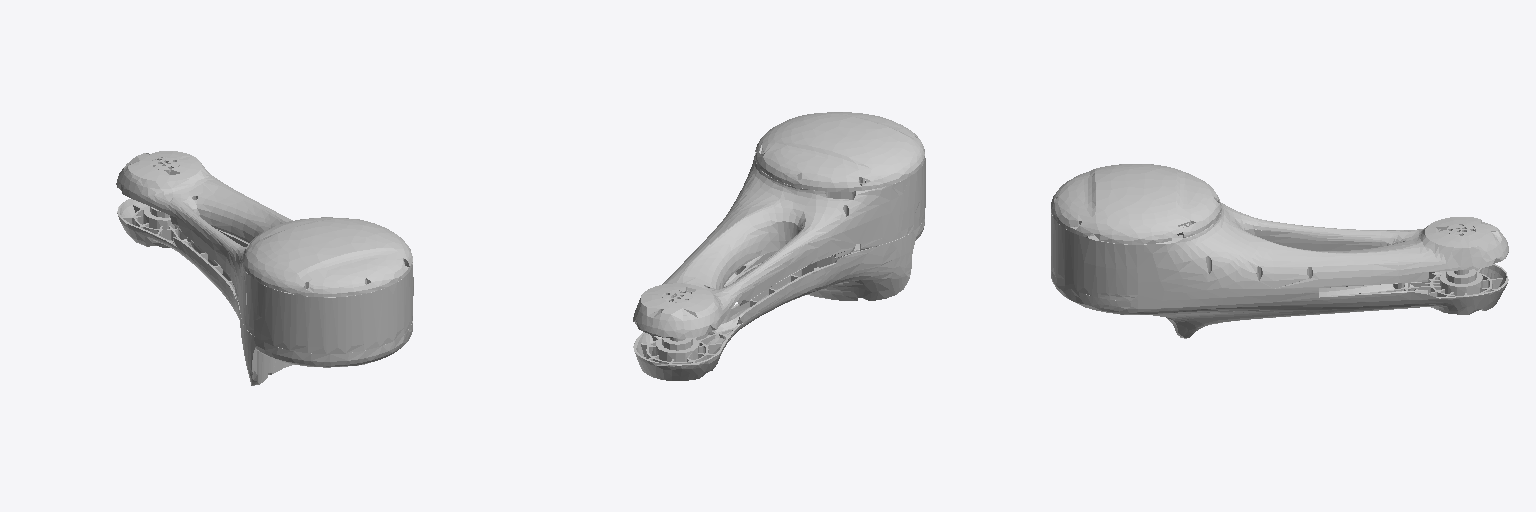
File: right_thigh_pitch_link.obj
3 renders of one model, left to right at view 1: azimuth 30°, elevation 25°; view 2: azimuth 150°, elevation 25°; view 3: azimuth 270°, elevation 25°, orthographic.
Parts seen in each view (by area): view 1: right_thigh_pitch_link; view 2: right_thigh_pitch_link; view 3: right_thigh_pitch_link.
Part boxes in pixels (left/top/right/bottom): right_thigh_pitch_link: left=116, top=151, right=413, bottom=385; right_thigh_pitch_link: left=633, top=112, right=925, bottom=380; right_thigh_pitch_link: left=1051, top=164, right=1508, bottom=338.
Size of the model in its own units: 0.1684 by 0.1569 by 0.4511.